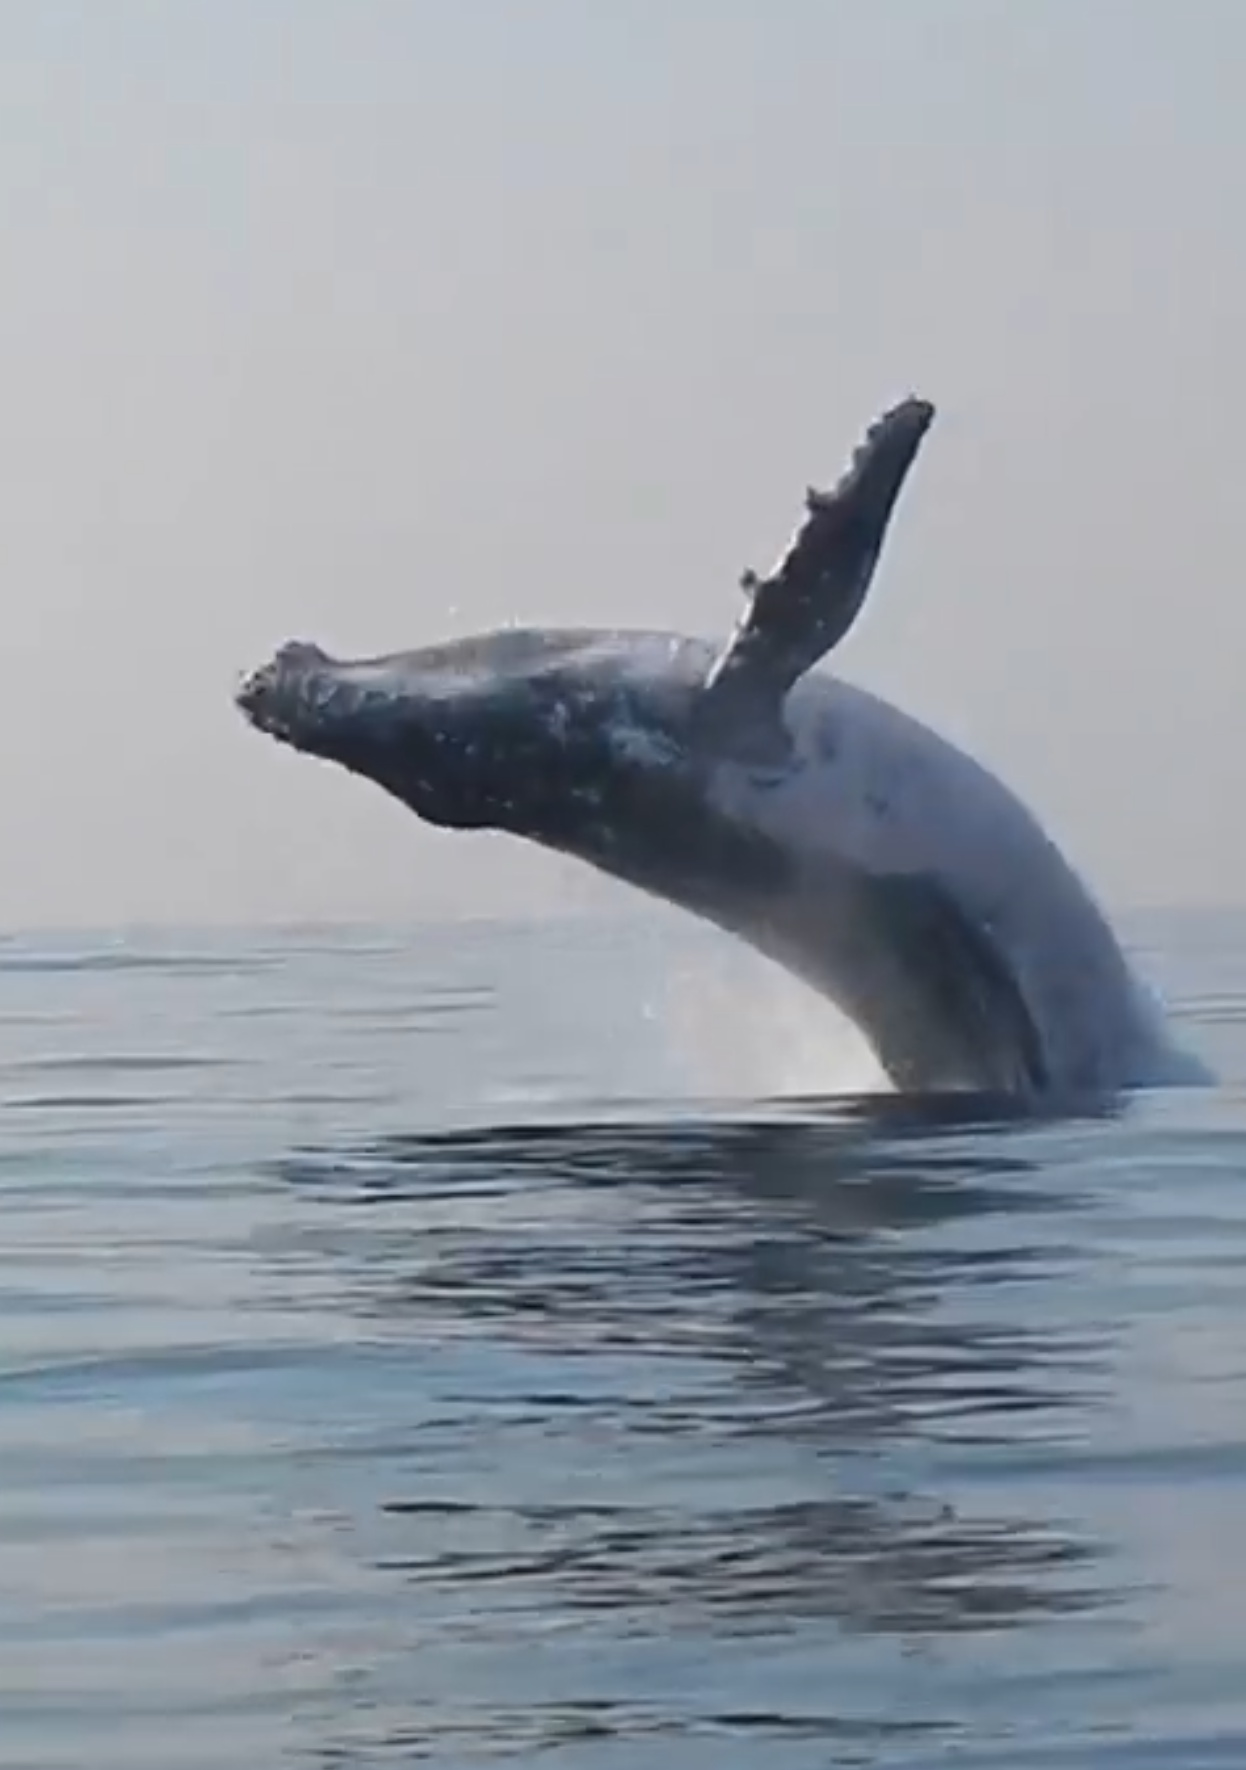humpback: (231, 613, 1195, 1107)
